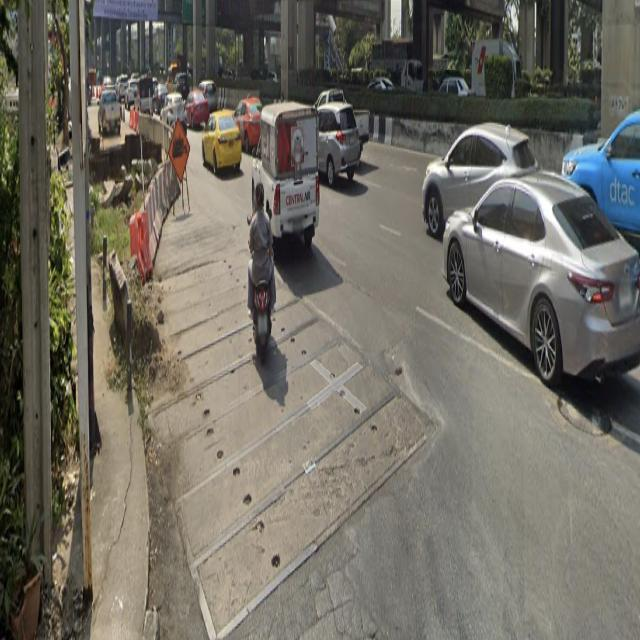fallen_object: (109, 142, 190, 284), (115, 97, 181, 174)
